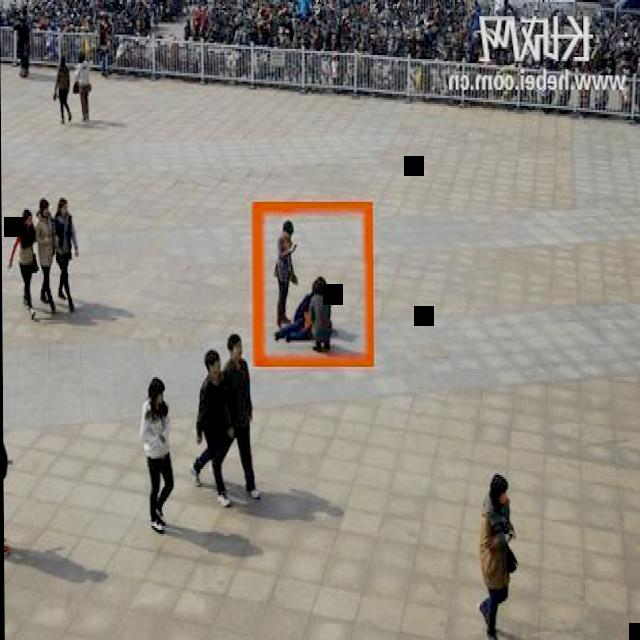Fall-Detected: (271, 267, 337, 347)
